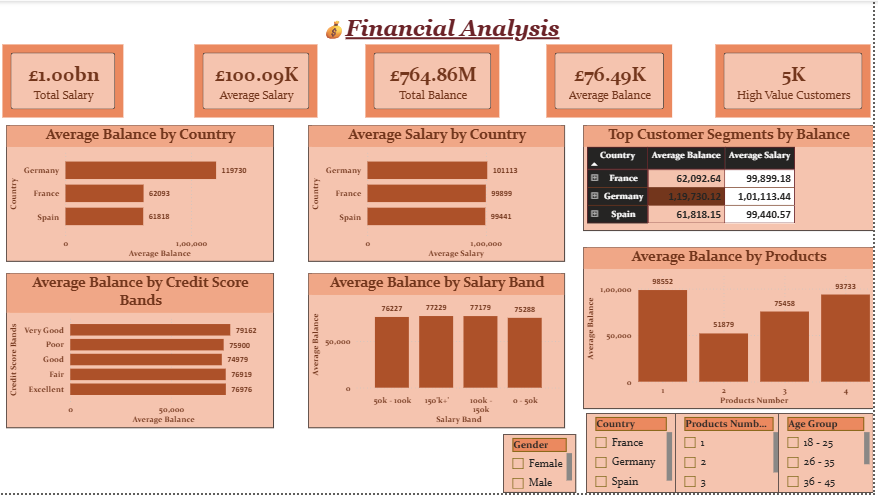

What the dashboard file says about the page in this screenshot:
{"tool":"powerbi","page":{"name":"Financial Analysis","canvas":[1280,720],"ordinal":6},"visuals":[{"type":"textbox","box":[10.2,0,1270.2,68.8],"z":0},{"type":"cardVisual","fields":{"Data":["Bank Customer Churn Prediction.Average Balance"]},"box":[796.1,58.5,194.6,117.1],"z":1000},{"type":"cardVisual","fields":{"Data":["Bank Customer Churn Prediction.Total Balance"]},"box":[531.2,58.5,206.3,117.1],"z":2000},{"type":"cardVisual","fields":{"Data":["Bank Customer Churn Prediction.Average Salary"]},"box":[281,58.5,190.2,117.1],"z":3000},{"type":"cardVisual","fields":{"Data":["Bank Customer Churn Prediction.Total Salary"]},"box":[0,58.5,187.3,117.1],"z":4000},{"type":"cardVisual","fields":{"Data":["Bank Customer Churn Prediction.High Value Customers"]},"box":[1043.4,58.5,237.1,117.1],"z":5000},{"type":"clusteredBarChart","fields":{"Category":["Bank Customer Churn Prediction.Country"],"Y":["Bank Customer Churn Prediction.Average Balance"]},"box":[10.2,181.5,392.2,200.5],"z":6000},{"type":"clusteredColumnChart","title":"Average Balance by Products","fields":{"Category":["Bank Customer Churn Prediction.Products Number"],"Y":["Bank Customer Churn Prediction.Average Balance"]},"box":[854.6,360,425.9,237.1],"z":7000},{"type":"clusteredColumnChart","fields":{"Category":["Bank Customer Churn Prediction.Salary Band"],"Y":["Bank Customer Churn Prediction.Average Balance"]},"box":[452.2,398,376.1,226.8],"z":8000},{"type":"clusteredBarChart","fields":{"Y":["Bank Customer Churn Prediction.Average Balance"],"Category":["Bank Customer Churn Prediction.Credit Score Bands"]},"box":[10.2,398,392.2,226.8],"z":9000},{"type":"pivotTable","title":"Top Customer Segments by Balance","fields":{"Rows":["Bank Customer Churn Prediction.Country","Bank Customer Churn Prediction.Products Number"],"Values":["Bank Customer Churn Prediction.Average Balance","Bank Customer Churn Prediction.Average Salary"]},"box":[854.6,181.5,425.9,155.1],"z":10000},{"type":"clusteredBarChart","fields":{"Category":["Bank Customer Churn Prediction.Country"],"Y":["Bank Customer Churn Prediction.Average Salary"]},"box":[452.2,181.5,376.1,200.5],"z":11000},{"type":"slicer","fields":{"Values":["Bank Customer Churn Prediction.Country"]},"box":[859,602.9,131.7,117.1],"z":12000},{"type":"slicer","fields":{"Values":["Bank Customer Churn Prediction.Gender"]},"box":[737.6,633.7,106.8,86.3],"z":13000},{"type":"slicer","fields":{"Values":["Bank Customer Churn Prediction.Products Number"]},"box":[989.3,602.9,158,117.1],"z":14000},{"type":"slicer","fields":{"Values":["Bank Customer Churn Prediction.Age Group"]},"box":[1140,602.9,140.5,117.1],"z":15000}]}

Visuals, with their boxes in screenshot pixels (x1, y1, x2, y2), scaled from the page's 1280x720 canvas onto the 878x495 screenshot:
textbox: <box>7,0,877,47</box>
cardVisual - Bank Customer Churn Prediction.Average Balance: <box>546,40,680,121</box>
cardVisual - Bank Customer Churn Prediction.Total Balance: <box>364,40,506,121</box>
cardVisual - Bank Customer Churn Prediction.Average Salary: <box>193,40,323,121</box>
cardVisual - Bank Customer Churn Prediction.Total Salary: <box>0,40,128,121</box>
cardVisual - Bank Customer Churn Prediction.High Value Customers: <box>716,40,877,121</box>
clusteredBarChart - Bank Customer Churn Prediction.Country x Bank Customer Churn Prediction.Average Balance: <box>7,125,276,263</box>
"Average Balance by Products" clusteredColumnChart: <box>586,248,877,411</box>
clusteredColumnChart - Bank Customer Churn Prediction.Salary Band x Bank Customer Churn Prediction.Average Balance: <box>310,274,568,430</box>
clusteredBarChart - Bank Customer Churn Prediction.Average Balance x Bank Customer Churn Prediction.Credit Score Bands: <box>7,274,276,430</box>
"Top Customer Segments by Balance" pivotTable: <box>586,125,877,231</box>
clusteredBarChart - Bank Customer Churn Prediction.Country x Bank Customer Churn Prediction.Average Salary: <box>310,125,568,263</box>
slicer - Bank Customer Churn Prediction.Country: <box>589,414,680,494</box>
slicer - Bank Customer Churn Prediction.Gender: <box>506,436,579,494</box>
slicer - Bank Customer Churn Prediction.Products Number: <box>679,414,787,494</box>
slicer - Bank Customer Churn Prediction.Age Group: <box>782,414,877,494</box>
